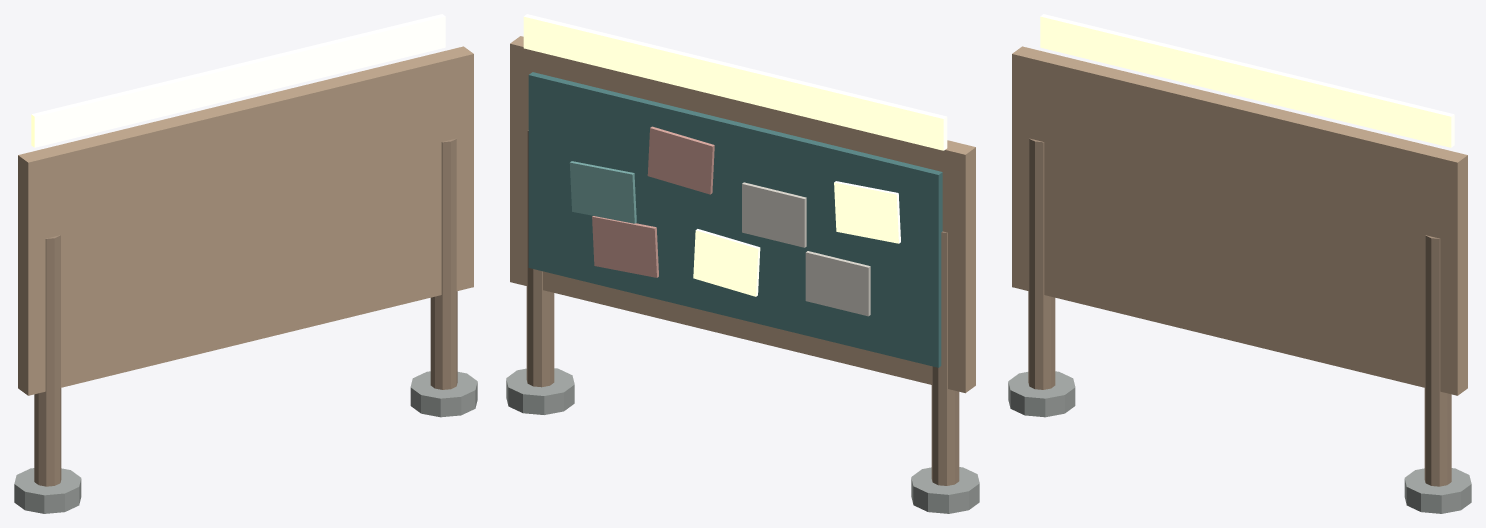
The model's file is yaba_community_board.glb.
3 views of the same model, side by side, from view 1: azimuth 30°, elevation 25°; view 2: azimuth 150°, elevation 25°; view 3: azimuth 330°, elevation 25° (orthographic). The views are drawn at different scales.
Parts seen in each view (by area): view 1: board_frame, board_header, board_post_2.0, board_post_-2.0, board_foot_-2.0, board_foot_2.0; view 2: board_panel, board_frame, board_header, board_post_-2.0, board_note_4, board_post_2.0, board_note_5, board_note_2, board_note_3, board_note_0, board_note_1, board_note_6 (+2 smaller); view 3: board_frame, board_header, board_post_-2.0, board_post_2.0, board_foot_2.0, board_foot_-2.0.
Part boxes in pixels (bbox=[...]): board_frame: bbox=[18, 46, 473, 395]; board_header: bbox=[31, 14, 445, 147]; board_post_2.0: bbox=[430, 138, 457, 389]; board_post_-2.0: bbox=[34, 235, 61, 486]; board_foot_-2.0: bbox=[14, 468, 81, 513]; board_foot_2.0: bbox=[410, 371, 477, 417]; board_panel: bbox=[528, 72, 942, 367]; board_frame: bbox=[510, 36, 975, 393]; board_header: bbox=[523, 14, 947, 150]; board_post_-2.0: bbox=[931, 231, 959, 485]; board_note_4: bbox=[805, 251, 870, 316]; board_post_2.0: bbox=[526, 130, 554, 387]; board_note_5: bbox=[693, 229, 760, 296]; board_note_2: bbox=[647, 126, 714, 194]; board_note_3: bbox=[569, 161, 636, 223]; board_note_0: bbox=[834, 181, 900, 243]; board_note_1: bbox=[742, 182, 806, 247]; board_note_6: bbox=[592, 216, 658, 277]; board_frame: bbox=[1012, 46, 1467, 395]; board_header: bbox=[1040, 14, 1454, 147]; board_post_-2.0: bbox=[1028, 138, 1055, 389]; board_post_2.0: bbox=[1424, 235, 1451, 486]; board_foot_2.0: bbox=[1404, 468, 1471, 513]; board_foot_-2.0: bbox=[1008, 371, 1075, 417].
Size of what is drawn, in the model's own units: 4.57 by 3.7 by 0.6.
